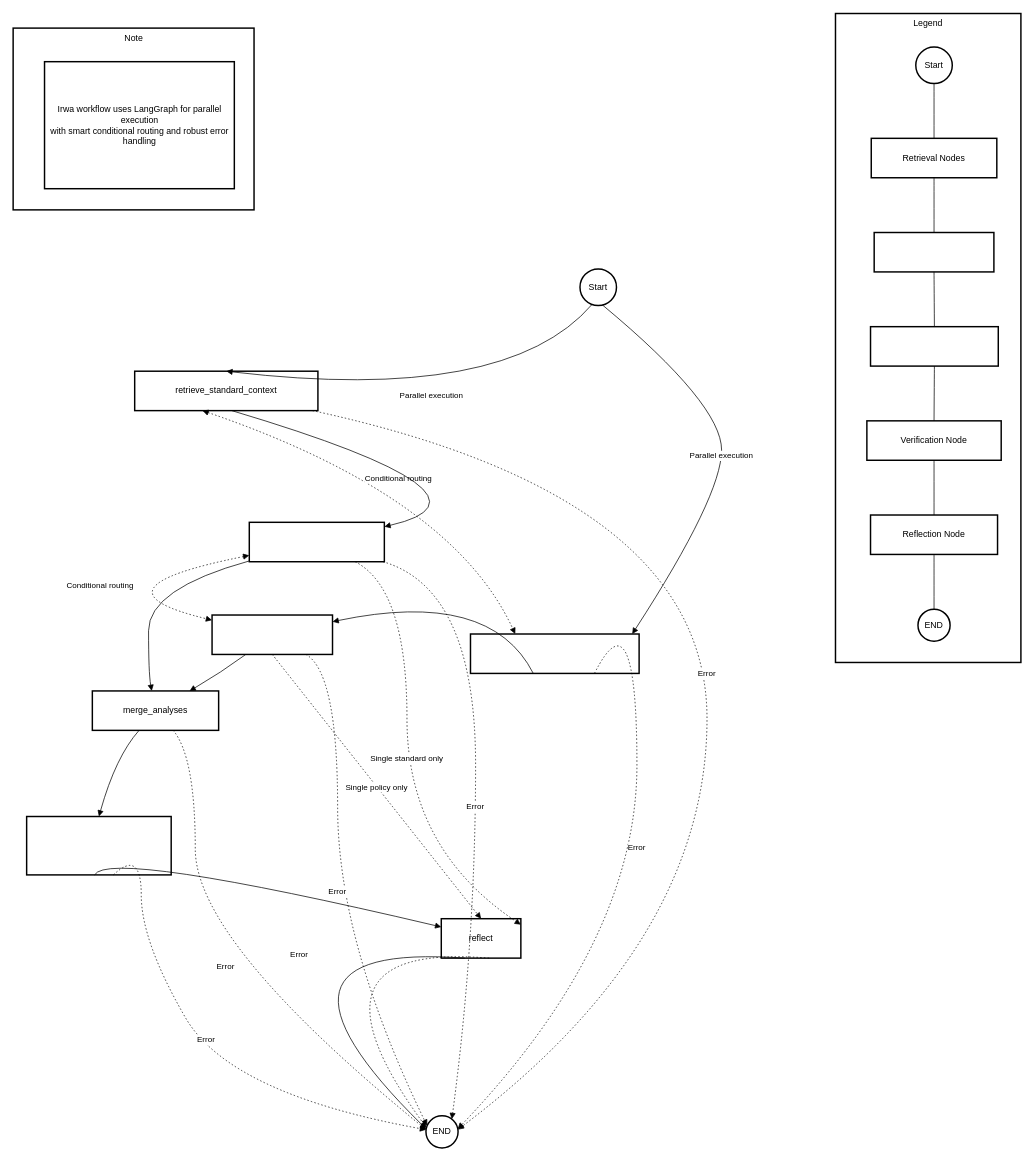
Some shapes in this 1034 by 1161 pixel diagram are drawn without their labels. Here are the shapes that lost their labels. From the top down, the centre of each, then its label:
At pixel 933 251: "Analysis Nodes".
At pixel 934 346: "Processing Node".
At pixel 316 541: "analyze_standard".
At pixel 272 634: "analyze_policy".
At pixel 554 653: "retrieve_policy_context".
At pixel 99 845: "verify_specs".
